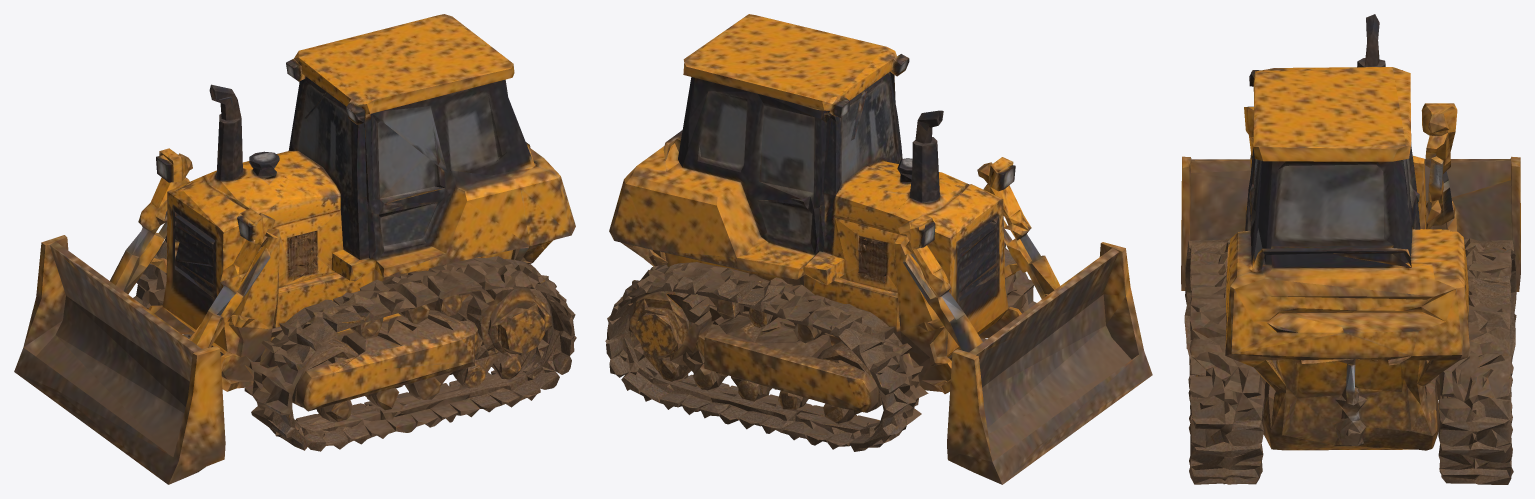
The model's file is bulldozer.glb.
3 renders of one model, left to right at view 1: azimuth 30°, elevation 25°; view 2: azimuth 150°, elevation 25°; view 3: azimuth 270°, elevation 25°, orthographic. The views are drawn at different scales.
Visible parts, largest first — view 1: output_unwrapped; view 2: output_unwrapped; view 3: output_unwrapped.
Boxes of the visible parts, <box> form: output_unwrapped: <box>14,14,576,484</box>; output_unwrapped: <box>605,14,1152,484</box>; output_unwrapped: <box>1181,14,1520,484</box>.
Bounding box in the file's own units: 1.9 × 1.33 × 1.19.
1 material, 1 textured.
